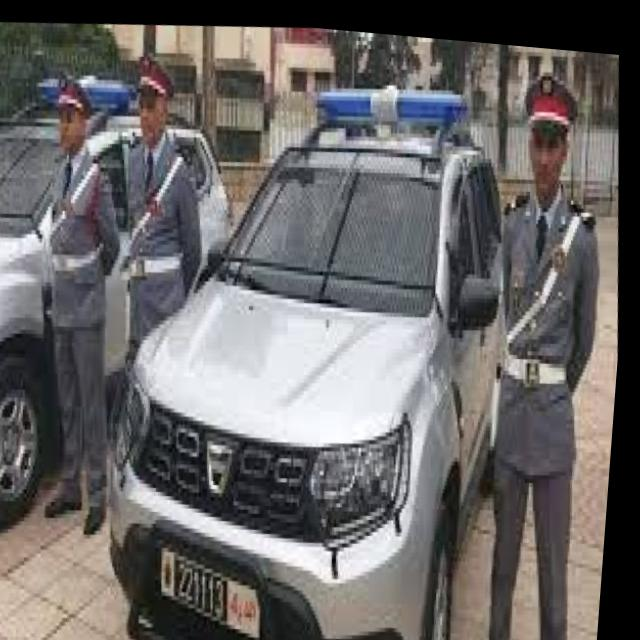gendarme car: (74, 20, 552, 640), (0, 49, 270, 555)
